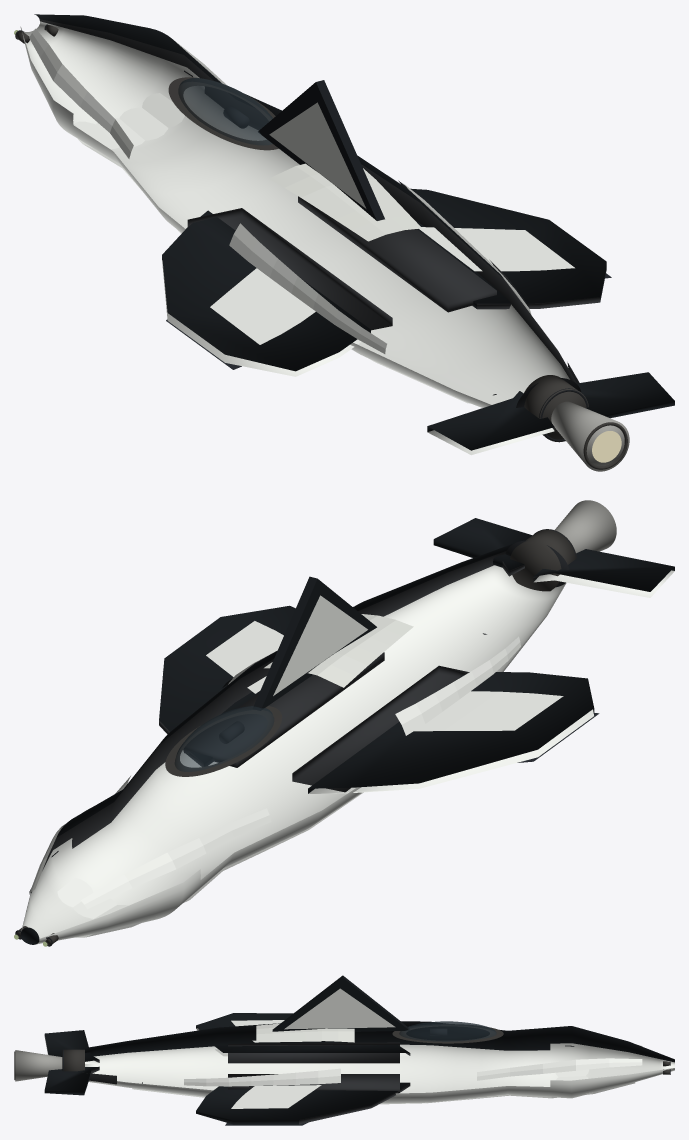
File: Ship_Orca_915833.glb
3 renders of one model, top to bottom at view 1: azimuth 30°, elevation 25°; view 2: azimuth 150°, elevation 25°; view 3: azimuth 270°, elevation 25°, orthographic. The views are drawn at different scales.
Parts seen in each view (by area): view 1: Fuselage_OrcaCountershadedHull, PectoralFin_Left_AerofoilWingFin, PectoralFin_Right_AerofoilWingFin, PectoralFinRoot_Right_BlendedShoulder, PaintSaddlePatch_DorsalSweptBackMark, PectoralFinRoot_Left_BlendedShoulder, PectoralFinPaint_Left_BroadSimplePanelTop, TailFluke_Left_SweptAftStabilizer, CanopyGlass_LowInsetDome, PectoralFinPaint_Right_BroadSimplePanelTop, DorsalFinTrimPatch_LeftFace, DorsalFin_MainSweptKeel (+8 smaller); view 2: Fuselage_OrcaCountershadedHull, PectoralFin_Left_AerofoilWingFin, PectoralFin_Right_AerofoilWingFin, PectoralFinRoot_Right_BlendedShoulder, PectoralFinRoot_Left_BlendedShoulder, CanopyGlass_LowInsetDome, PectoralFinPaint_Left_BroadSimplePanelTop, TailFluke_Left_SweptAftStabilizer, PaintEyePatch_Left_ForwardWhiteComma, DorsalFinTrimPatch_LeftFace, DorsalFin_MainSweptKeel, PaintSaddlePatch_DorsalSweptBackMark (+7 smaller); view 3: Fuselage_OrcaCountershadedHull, PectoralFin_Right_AerofoilWingFin, PectoralFinRoot_Left_BlendedShoulder, PectoralFin_Left_AerofoilWingFin, DorsalFinTrimPatch_RightFace, DorsalFin_MainSweptKeel, PaintFlankSweep_Right_SingleBroadBlade, PaintEyePatch_Right_ForwardWhiteComma, CanopyGlass_LowInsetDome, PectoralFinPaint_Right_BroadSimplePanelTop, PectoralFinRoot_Right_BlendedShoulder, PaintSaddlePatch_DorsalSweptBackMark (+7 smaller).
Boxes of the visible parts, x1,y1,x2,y2 form: Fuselage_OrcaCountershadedHull: (20,14,581,407); PectoralFin_Left_AerofoilWingFin: (162,210,370,376); PectoralFin_Right_AerofoilWingFin: (410,188,606,309); PectoralFinRoot_Right_BlendedShoulder: (298,196,496,312); PaintSaddlePatch_DorsalSweptBackMark: (269,163,421,241); PectoralFinRoot_Left_BlendedShoulder: (187,208,392,330); PectoralFinPaint_Left_BroadSimplePanelTop: (210,268,315,344); TailFluke_Left_SweptAftStabilizer: (427,391,554,455); CanopyGlass_LowInsetDome: (178,78,272,145); PectoralFinPaint_Right_BroadSimplePanelTop: (419,227,574,271); DorsalFinTrimPatch_LeftFace: (269,102,366,208); DorsalFin_MainSweptKeel: (258,80,384,220); Fuselage_OrcaCountershadedHull: (20,540,569,944); PectoralFin_Left_AerofoilWingFin: (308,672,594,793); PectoralFin_Right_AerofoilWingFin: (159,605,295,766); PectoralFinRoot_Right_BlendedShoulder: (184,652,384,767); PectoralFinRoot_Left_BlendedShoulder: (292,665,486,792); CanopyGlass_LowInsetDome: (174,706,274,771); PectoralFinPaint_Left_BroadSimplePanelTop: (414,691,563,731); TailFluke_Left_SweptAftStabilizer: (533,549,674,597); PaintEyePatch_Left_ForwardWhiteComma: (81,808,271,909); DorsalFinTrimPatch_LeftFace: (273,595,367,695); DorsalFin_MainSweptKeel: (253,576,376,710); PaintSaddlePatch_DorsalSweptBackMark: (264,614,413,687); Fuselage_OrcaCountershadedHull: (80,1021,674,1103); PectoralFin_Right_AerofoilWingFin: (196,1082,410,1124); PectoralFinRoot_Left_BlendedShoulder: (228,1042,399,1063); PectoralFin_Left_AerofoilWingFin: (196,1013,410,1056); DorsalFinTrimPatch_RightFace: (284,988,395,1029); DorsalFin_MainSweptKeel: (272,975,409,1031); PaintFlankSweep_Right_SingleBroadBlade: (184,1068,340,1086); PaintEyePatch_Right_ForwardWhiteComma: (477,1058,642,1080); CanopyGlass_LowInsetDome: (399,1021,496,1041); PectoralFinPaint_Right_BroadSimplePanelTop: (231,1085,321,1108); PectoralFinRoot_Right_BlendedShoulder: (228,1074,399,1092); PaintSaddlePatch_DorsalSweptBackMark: (256,1023,354,1042).
Bounding box in the file's own units: 3.52 × 1.82 × 9.22.
